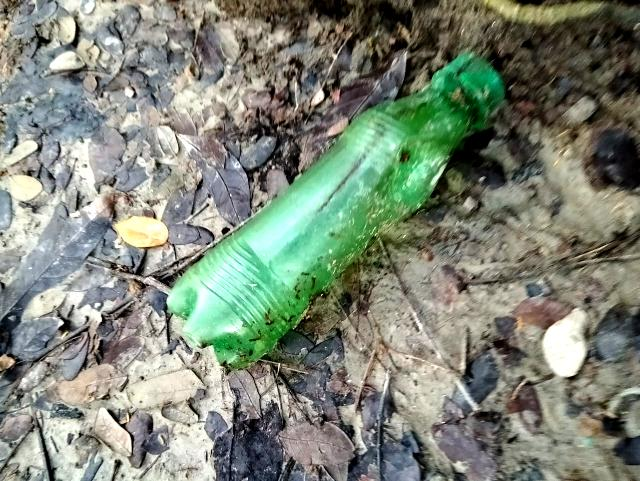bottle: (139, 0, 528, 389)
